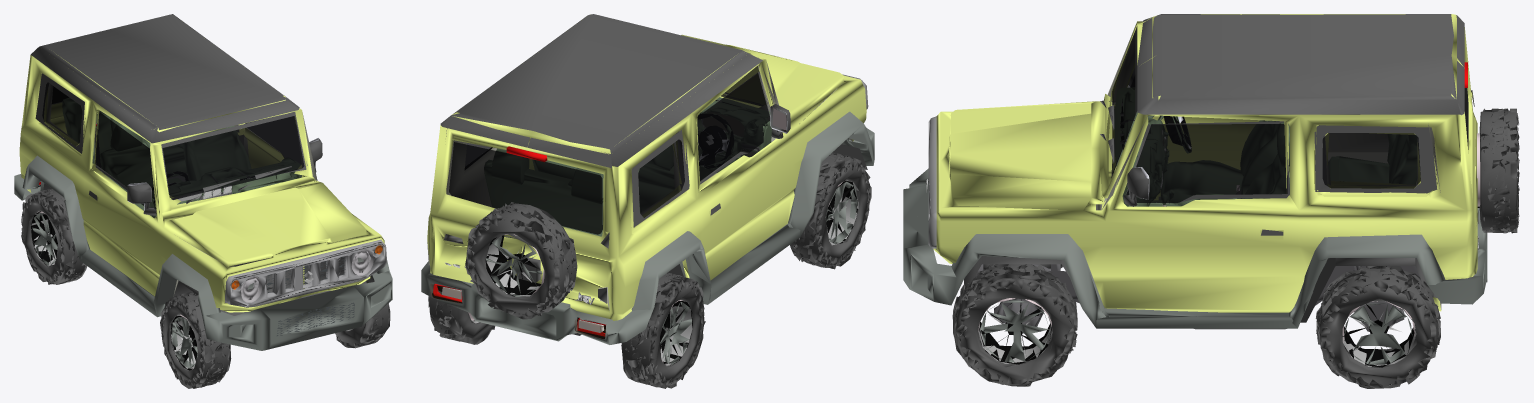
File: jimny-real.glb
3 views of the same model, side by side, from view 1: azimuth 30°, elevation 25°; view 2: azimuth 150°, elevation 25°; view 3: azimuth 270°, elevation 25° (orthographic). The views are drawn at different scales.
Visible parts, largest first — view 1: Material2 (×14), Material3 (×4); view 2: Material2 (×15), Material3 (×6); view 3: Material2 (×13), Material3 (×4).
Boxes of the visible parts, x1,y1,x2,y2 form: Material2 (×14): [14, 14, 392, 388]; Material3 (×4): [31, 84, 387, 368]; Material2 (×15): [421, 14, 874, 388]; Material3 (×6): [427, 62, 857, 365]; Material2 (×13): [903, 14, 1519, 388]; Material3 (×4): [928, 25, 1468, 366].
Bounding box in the file's own units: 67.27 × 70.71 × 142.
Materials: 4 (4 with a texture image).
